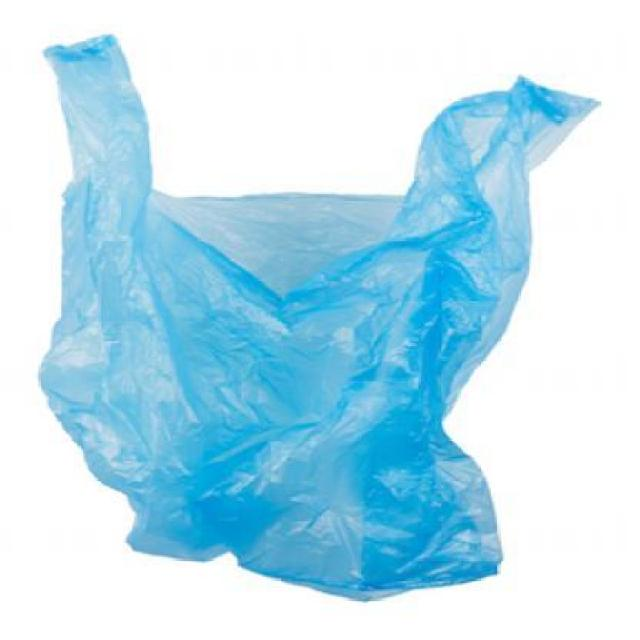plastic bag: (37, 31, 606, 604)
